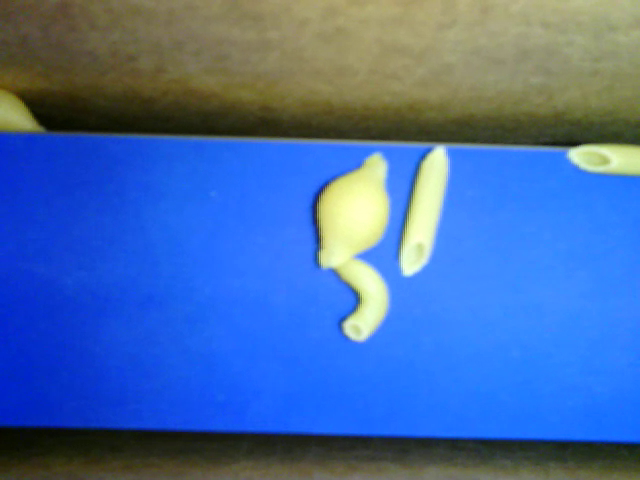elbow: (335, 255, 396, 346)
penne: (396, 141, 452, 279), (567, 141, 638, 178)
shell: (312, 142, 390, 274), (2, 85, 61, 136)
